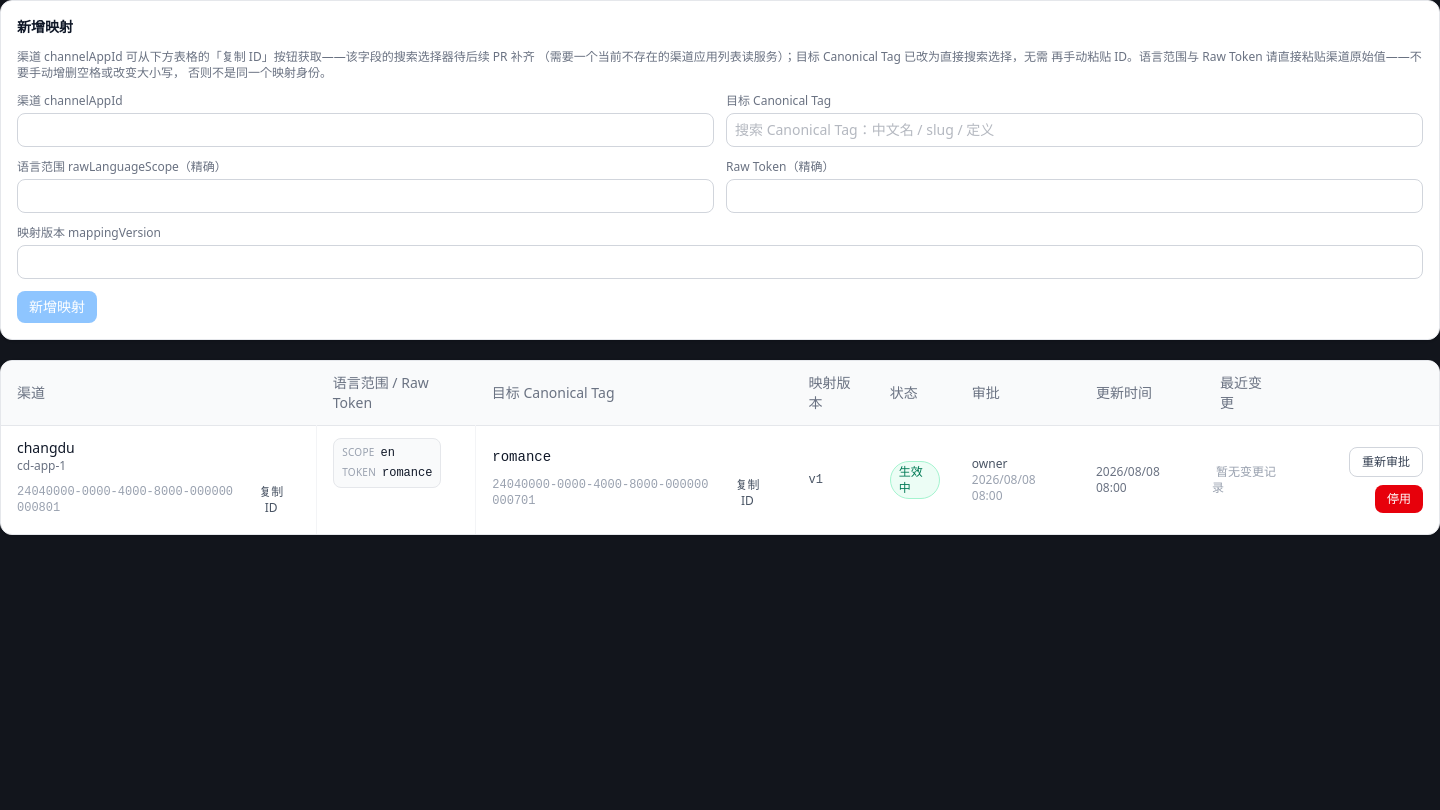
MappingsClient · 冲突与失败文案 › 409 mapping_identity_conflict：展示真实中文文案，同样不自动重试
This screenshot has width=1440, height=810.
Click the button "重新审批" at (1386, 462), box [1349,447,1423,477]
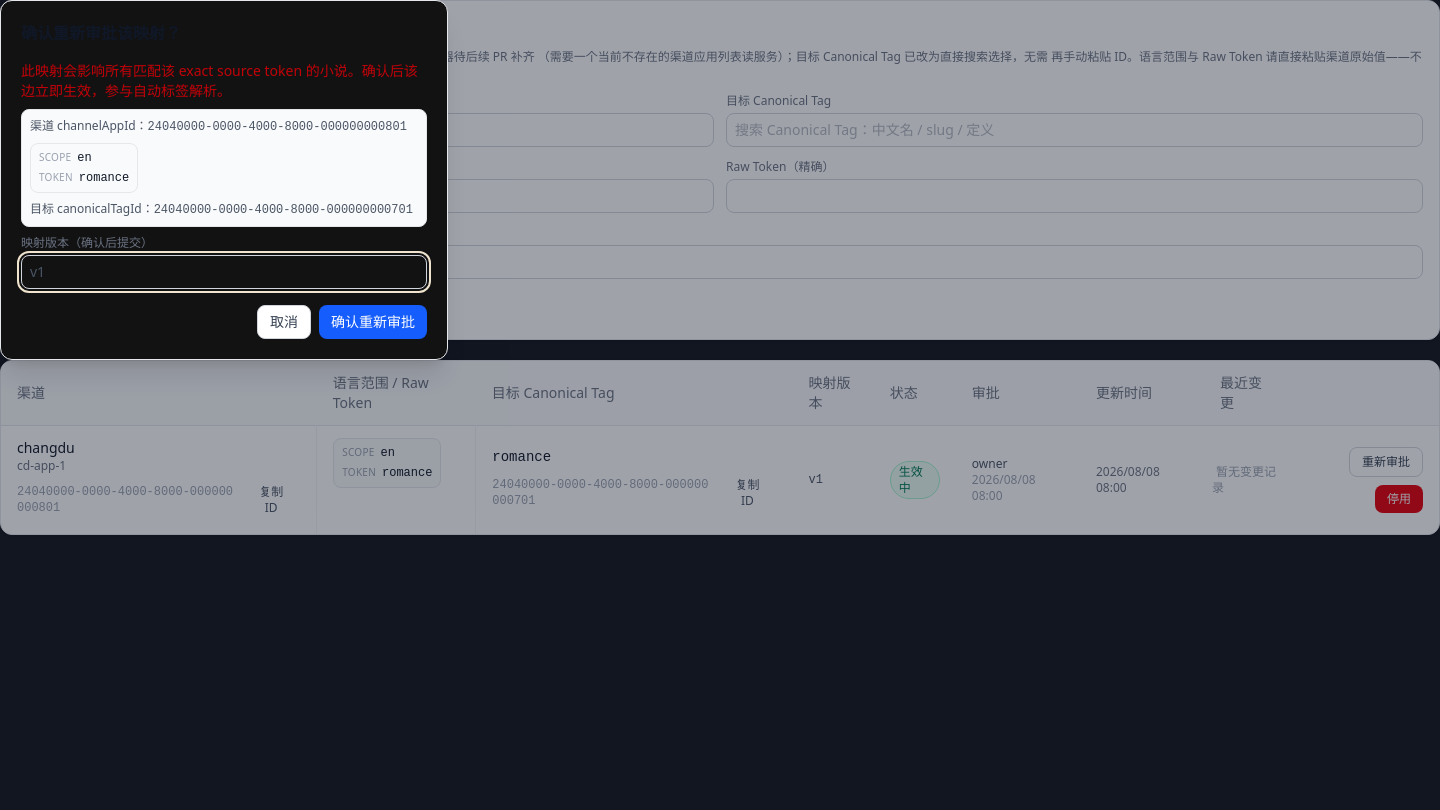
Click the button "确认重新审批" at (373, 322), box [319,305,427,339]
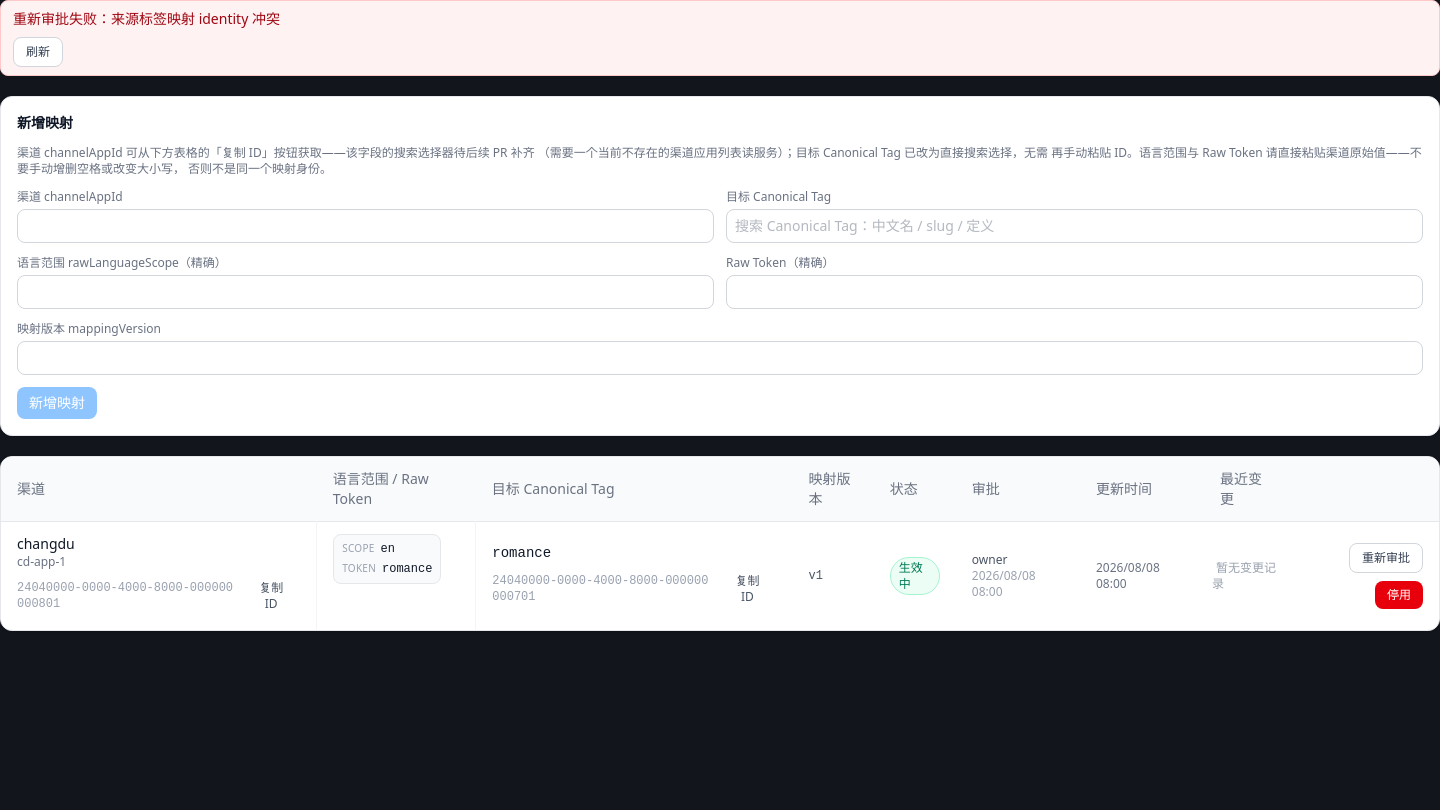
Expected: the message shows "来源标签映射 identity 冲突", [13,9,280,28]
Expected: the button "刷新" is shown, [13,37,63,67]
